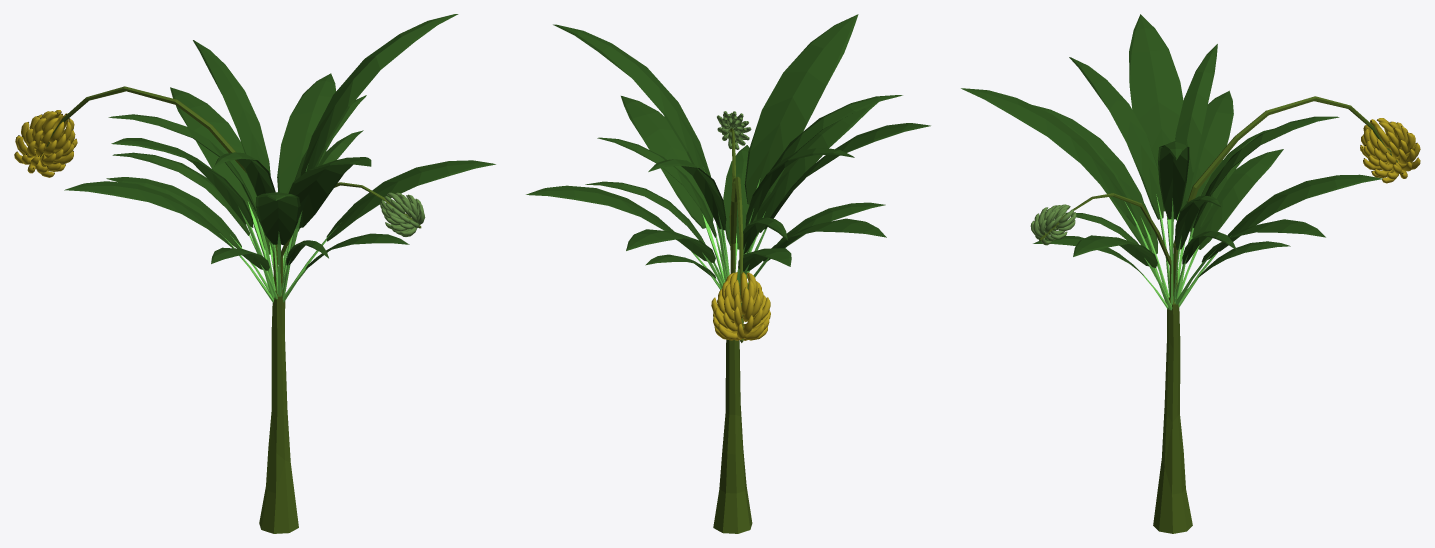
The model's file is SM_BananaTree_002_LOD3.fbx.
3 renders of one model, left to right at view 1: azimuth 30°, elevation 25°; view 2: azimuth 150°, elevation 25°; view 3: azimuth 270°, elevation 25°, orthographic. The views are drawn at different scales.
Visible parts, largest first — view 1: BananaTree; view 2: BananaTree; view 3: BananaTree.
Boxes of the visible parts, left/top/right/bottom form: BananaTree: left=14, top=14, right=495, bottom=533; BananaTree: left=526, top=14, right=930, bottom=533; BananaTree: left=961, top=14, right=1420, bottom=533.
Bounding box in the file's own units: 335 × 407 × 376.
